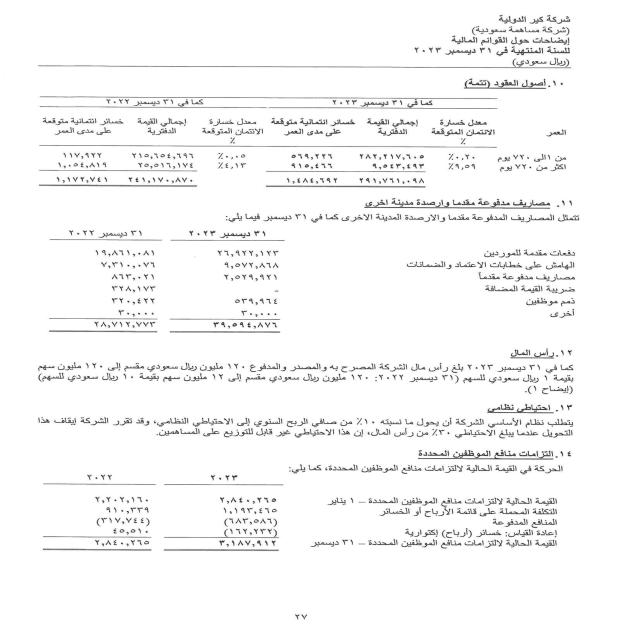notes: (438, 37, 575, 45)
table: (29, 94, 574, 196), (28, 226, 292, 346), (25, 467, 285, 571)
